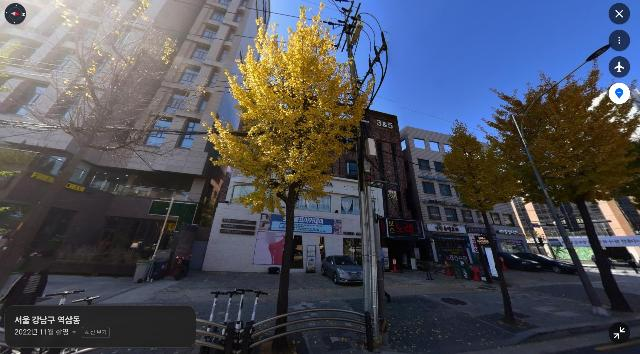ginkgo: (124, 0, 375, 354), (479, 64, 640, 315), (441, 118, 527, 325)
